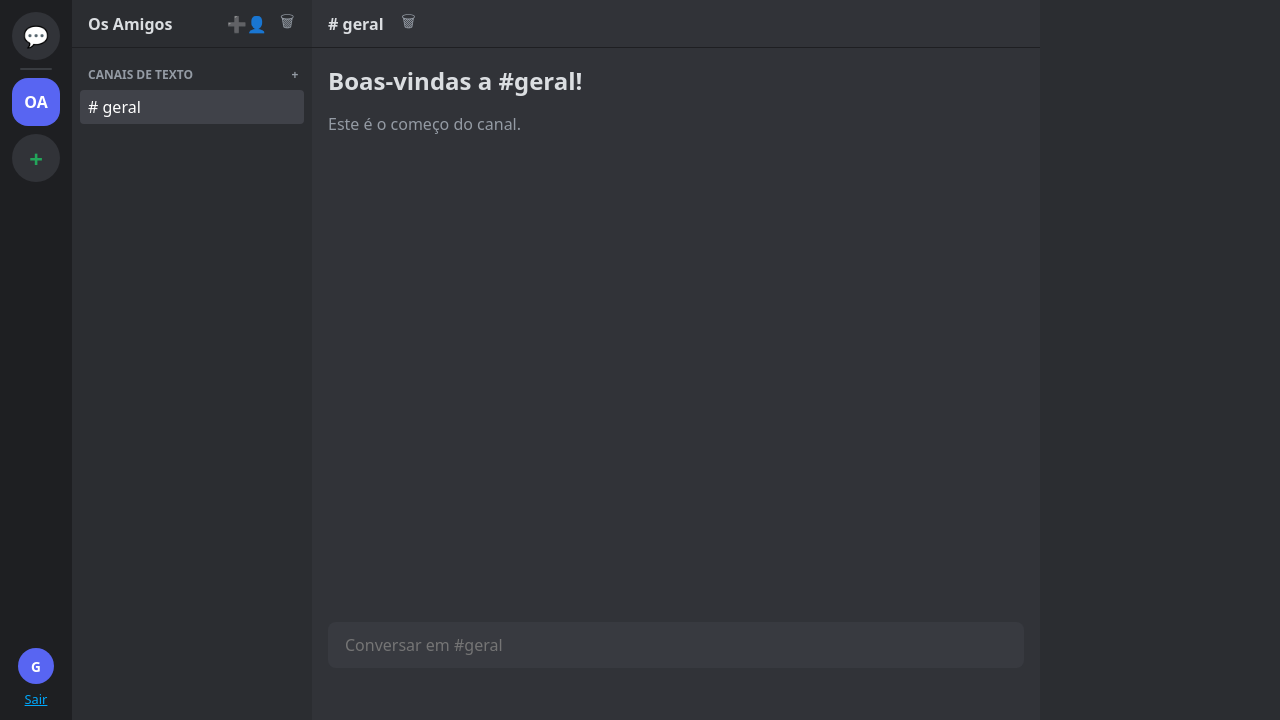
it: enviar mensagem › se falhar, permite tentar de novo
Type "vai falhar" into the text box named "Mensagem para #geral" at [676, 645], box [328,622,1024,668]
Then press Enter
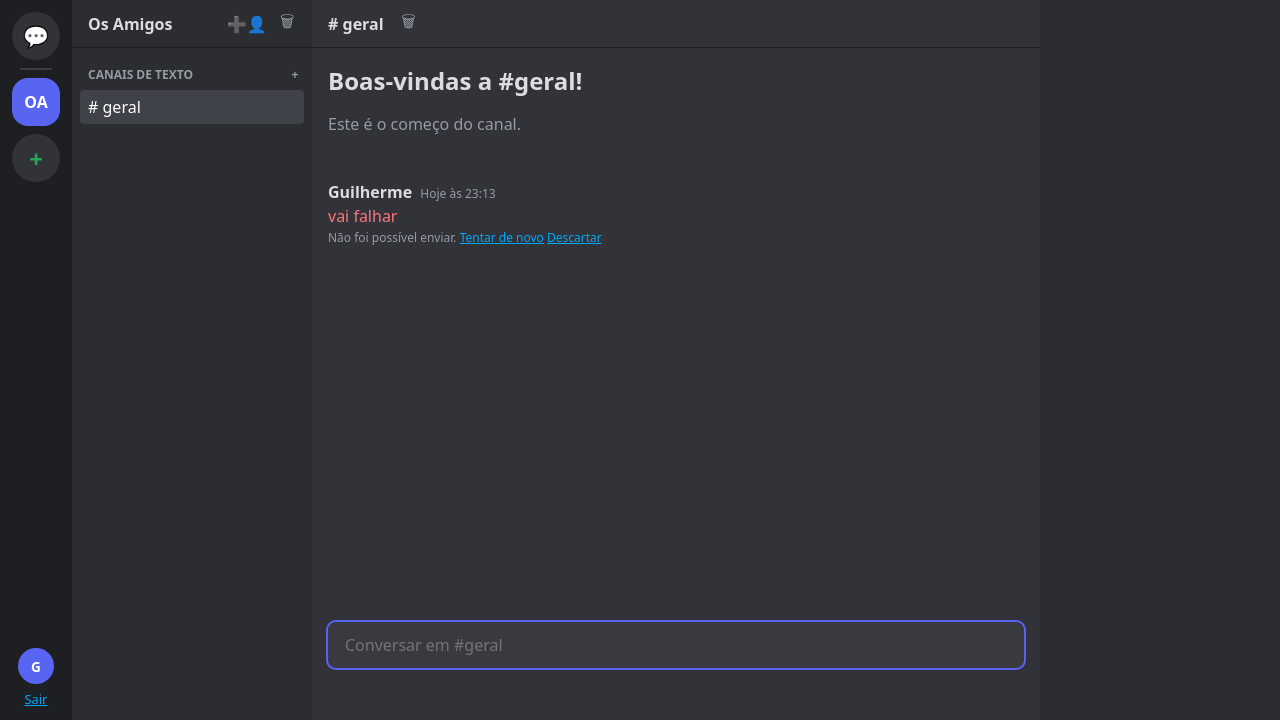
Result: the text "Não foi possível enviar. Tentar de novo Descartar" is shown at [328,229,602,246]
Click the button "Tentar de novo" at [502, 238], box [460,229,544,246]
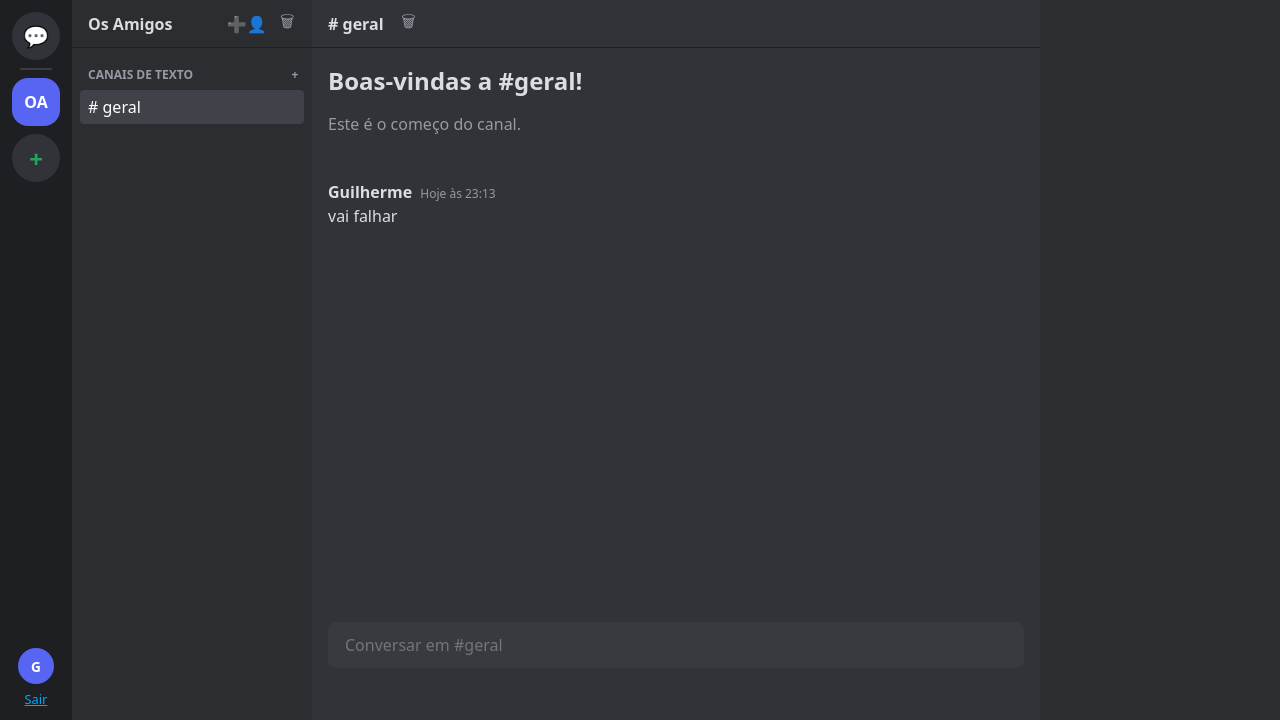
Result: the text "vai falhar" is shown once at [328,205,398,227]
Result: the text "Não foi possível enviar" is gone
